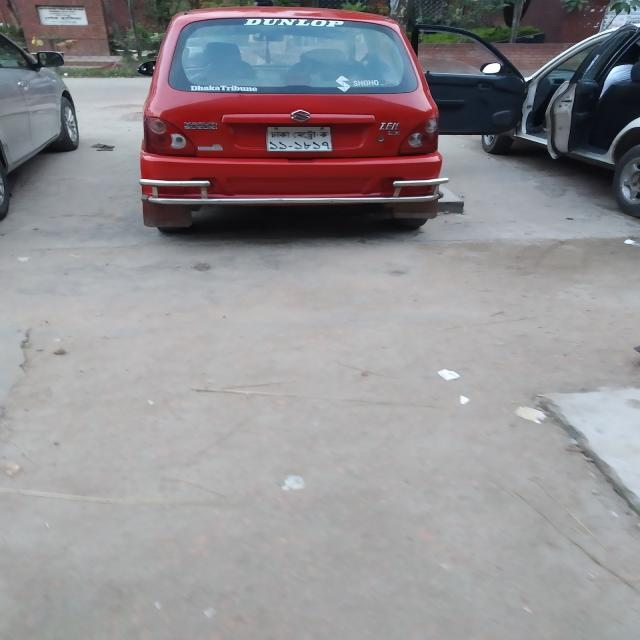numberplate: (264, 124, 333, 152)
